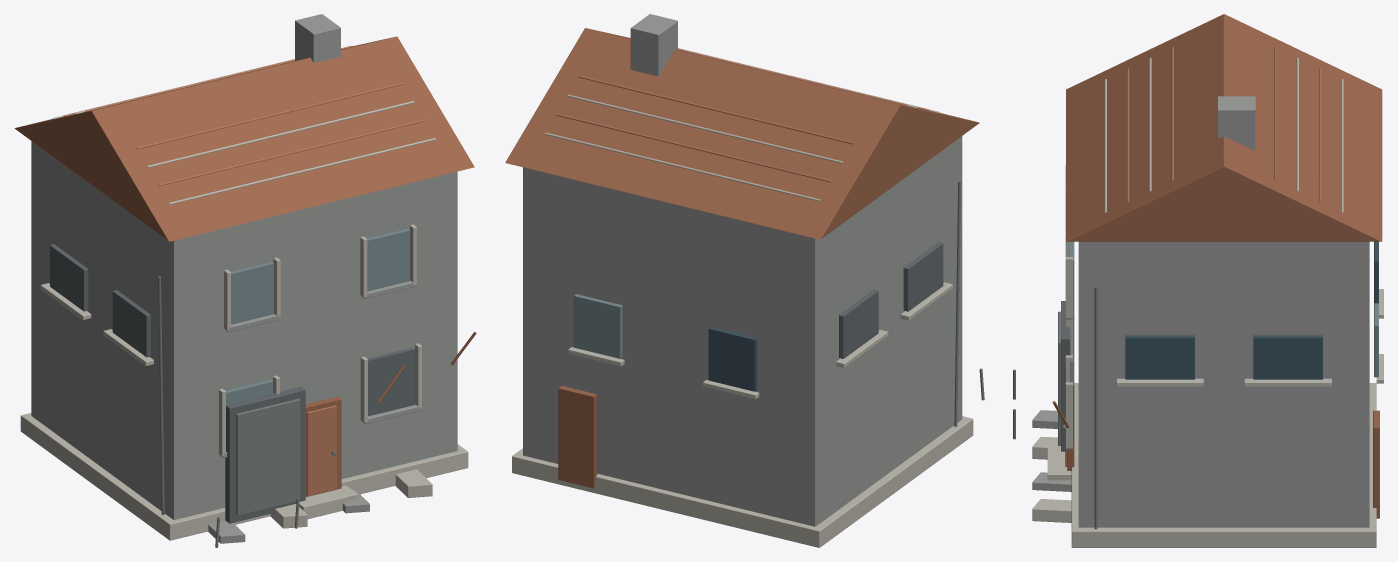
The model's file is Apoc_House_05_Collapsed_Suburban_Home.fbx.
3 renders of one model, left to right at view 1: azimuth 30°, elevation 25°; view 2: azimuth 150°, elevation 25°; view 3: azimuth 270°, elevation 25°, orthographic. The views are drawn at different scales.
Parts seen in each view (by area): view 1: Apoc_House_05_Collapsed_Suburban_Home; view 2: Apoc_House_05_Collapsed_Suburban_Home; view 3: Apoc_House_05_Collapsed_Suburban_Home.
Part boxes in pixels (x1,y1,x2,y2): Apoc_House_05_Collapsed_Suburban_Home: [14, 14, 476, 547]; Apoc_House_05_Collapsed_Suburban_Home: [505, 14, 984, 547]; Apoc_House_05_Collapsed_Suburban_Home: [1013, 14, 1383, 547].
Bounding box in the file's own units: 5.82 × 7.32 × 5.99.
